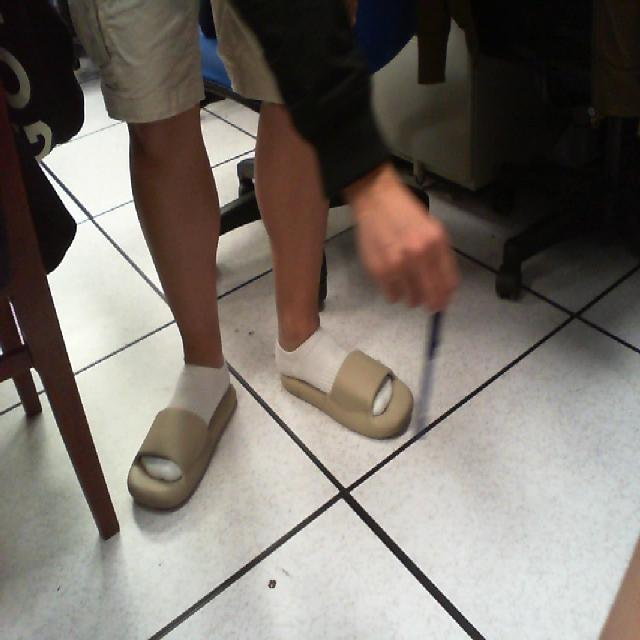Pen: (402, 262, 463, 469)
